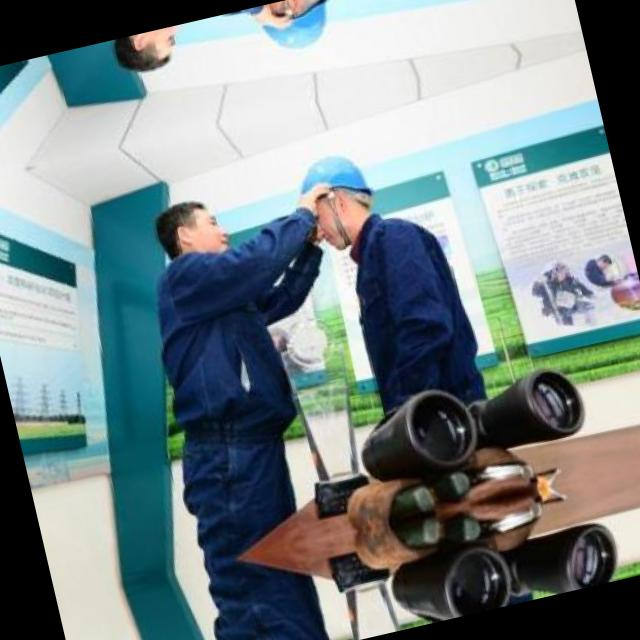helmet: (286, 132, 385, 260), (252, 0, 342, 73)
